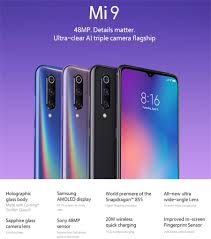mi: (116, 62, 179, 178)
